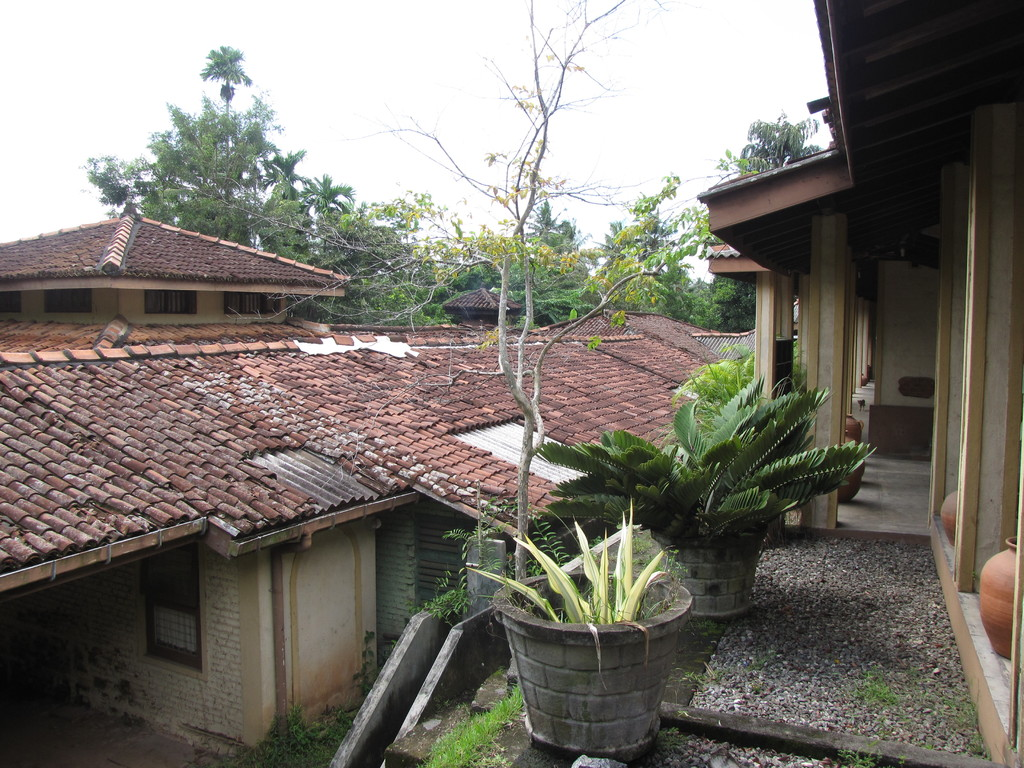Tree: (195, 0, 684, 587), (121, 58, 301, 227)
